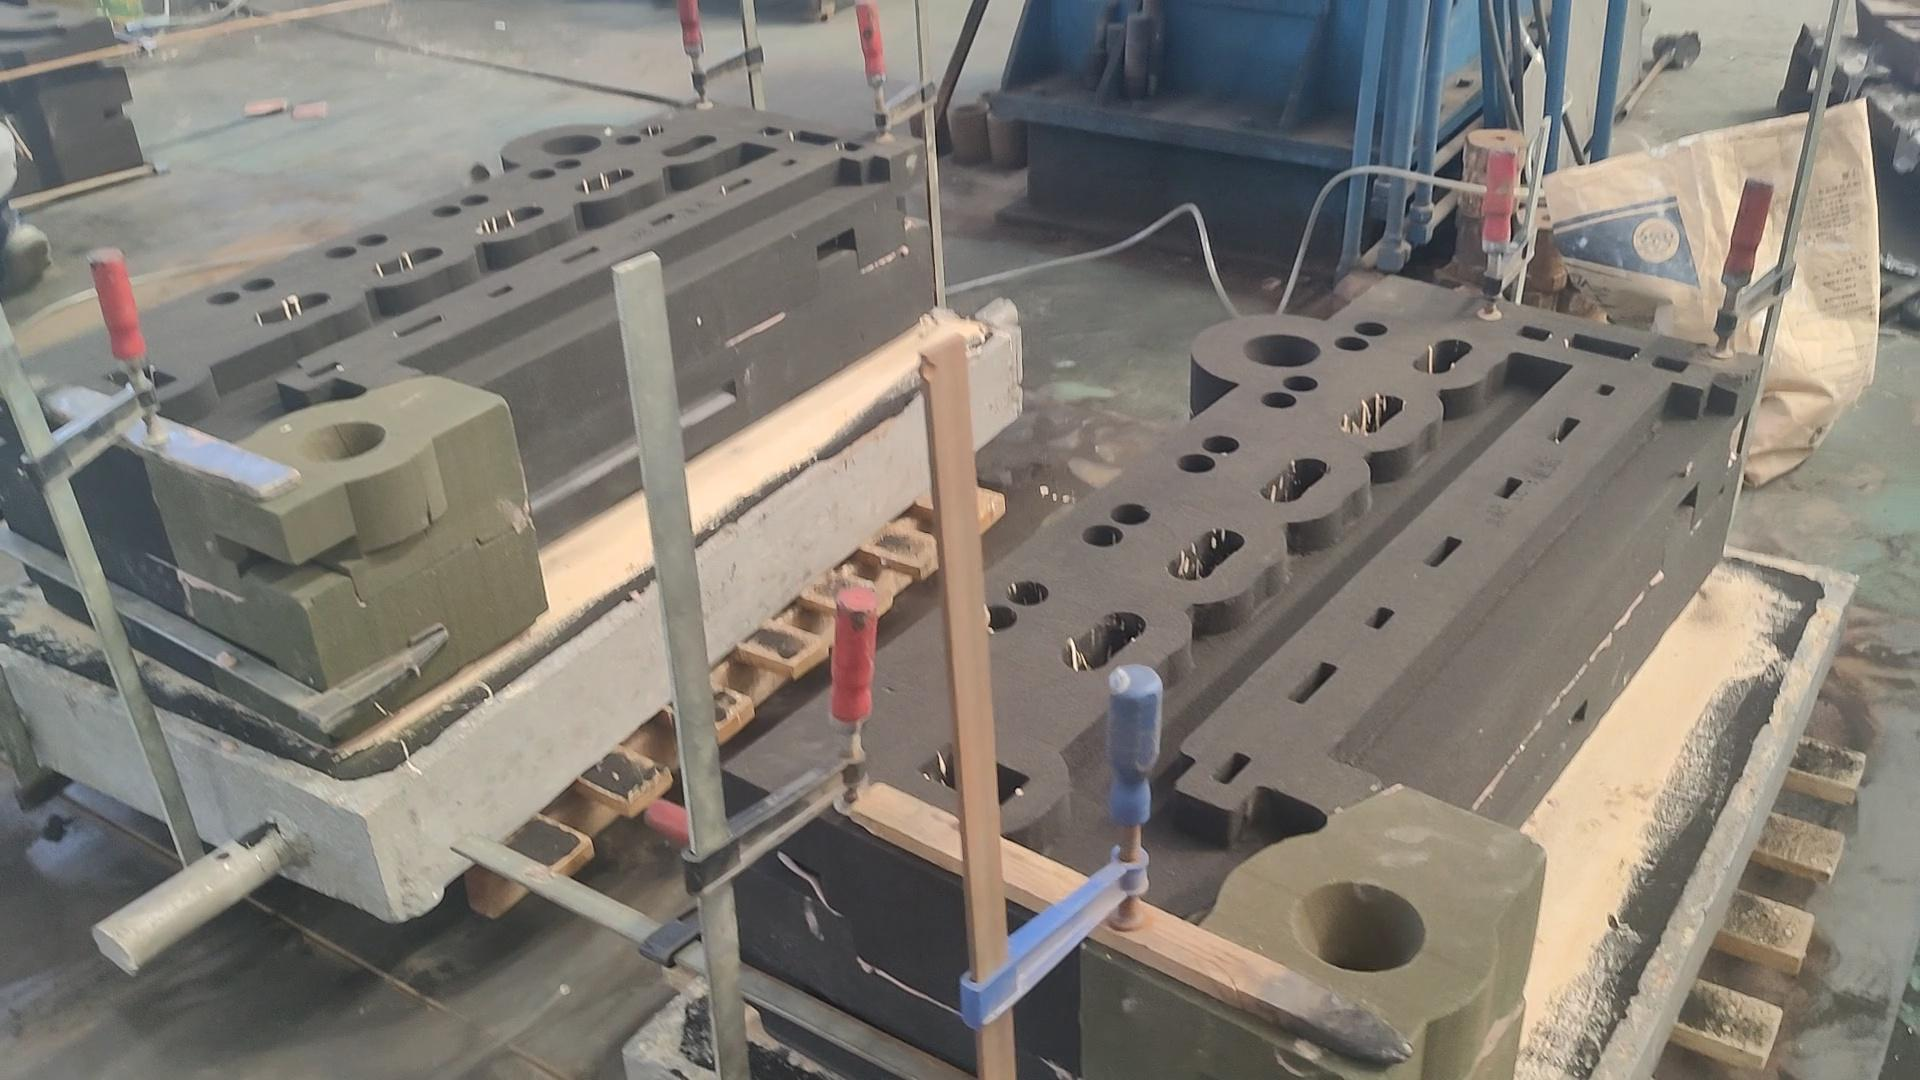pouring hole: (1290, 878, 1429, 975), (295, 419, 388, 463), (1242, 331, 1323, 369), (541, 133, 603, 157), (981, 105, 1025, 121), (13, 11, 61, 25), (905, 98, 943, 112), (953, 103, 986, 116)
